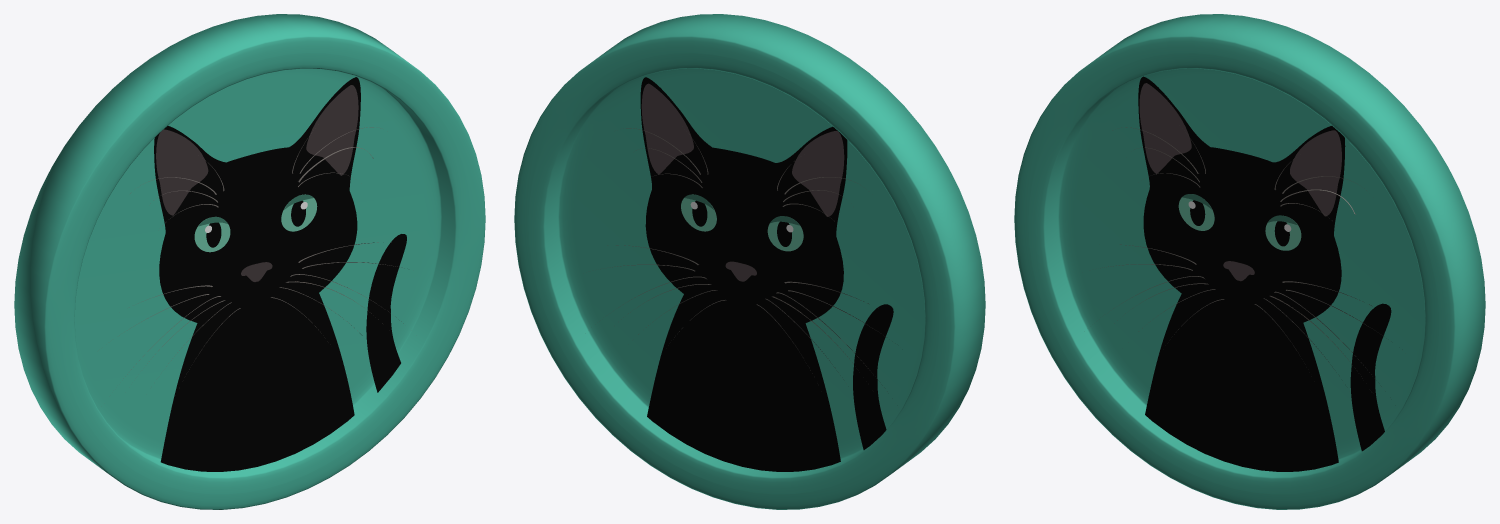
File: actual-scene.gltf
The picture shows the model from 3 angles, left to right: view 1: azimuth 30°, elevation 25°; view 2: azimuth 150°, elevation 25°; view 3: azimuth 330°, elevation 25°; orthographic projection.
Visible parts, largest first — view 1: Cylinder, path12-8, path11-1, path9-4, path9-0-9, path1-8-7-7, path1-8-7; view 2: Cylinder, path12-8001, path11-1001, path9-0-9001, path9-4001, path1-8-7001, path1-8-7-7001; view 3: Cylinder, path12-8, path11-1, path9-0-9, path9-4, path1-8-7, path1-8-7-7.
Part boxes in pixels (left/top/right/bottom): Cylinder: left=14, top=14, right=485, bottom=509; path12-8: left=154, top=77, right=360, bottom=471; path11-1: left=366, top=234, right=406, bottom=392; path9-4: left=306, top=85, right=358, bottom=175; path9-0-9: left=156, top=129, right=208, bottom=215; path1-8-7-7: left=194, top=217, right=230, bottom=252; path1-8-7: left=281, top=194, right=317, bottom=231; Cylinder: left=514, top=14, right=985, bottom=509; path12-8001: left=640, top=77, right=847, bottom=471; path11-1001: left=853, top=304, right=893, bottom=449; path9-0-9001: left=641, top=83, right=693, bottom=174; path9-4001: left=792, top=131, right=844, bottom=216; path1-8-7001: left=767, top=216, right=803, bottom=251; path1-8-7-7001: left=681, top=194, right=716, bottom=231; Cylinder: left=1014, top=14, right=1485, bottom=509; path12-8: left=1138, top=76, right=1345, bottom=471; path11-1: left=1350, top=303, right=1391, bottom=451; path9-0-9: left=1139, top=83, right=1191, bottom=173; path9-4: left=1290, top=130, right=1341, bottom=216; path1-8-7: left=1265, top=215, right=1301, bottom=250; path1-8-7-7: left=1178, top=194, right=1214, bottom=230.
Bounding box in the file's own units: 0.3292 × 0.3292 × 0.0416.
